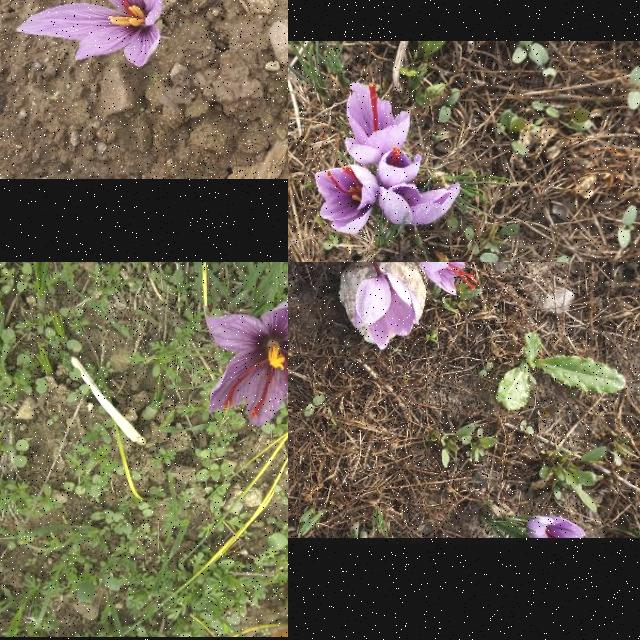flower: (205, 296, 288, 439), (17, 0, 163, 68), (346, 82, 412, 164), (353, 274, 417, 350), (316, 166, 380, 234), (376, 182, 459, 228), (416, 262, 480, 296), (376, 148, 422, 185), (528, 516, 586, 540)
